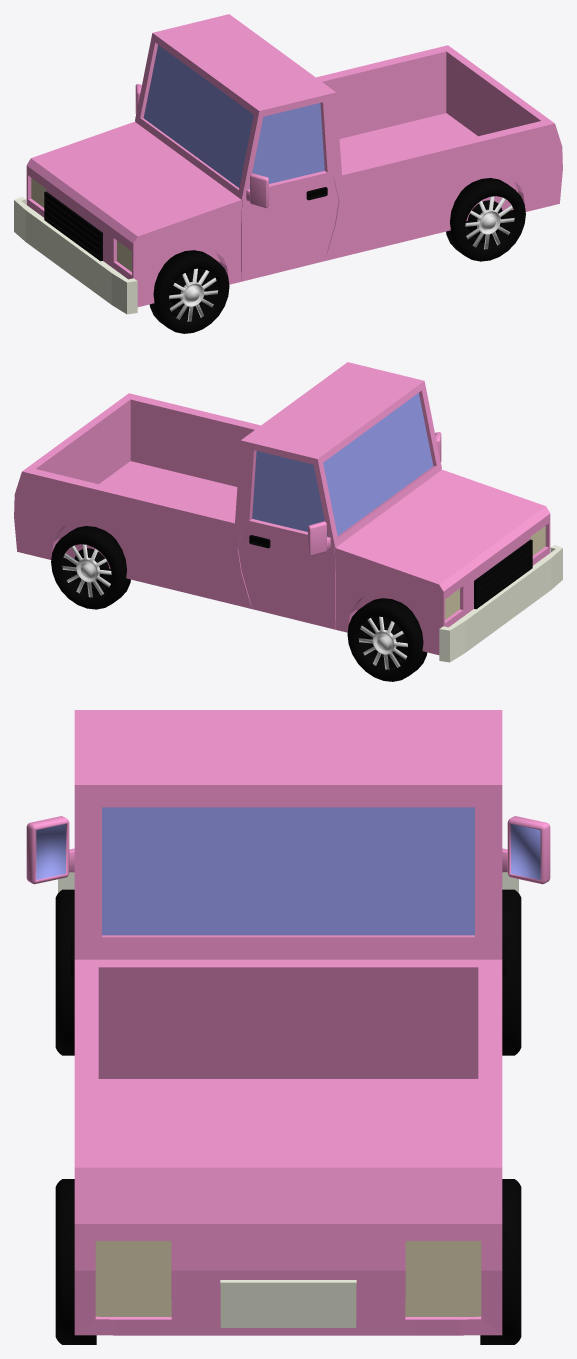
3 renders of one model, top to bottom at view 1: azimuth 30°, elevation 25°; view 2: azimuth 150°, elevation 25°; view 3: azimuth 270°, elevation 25°, orthographic. The views are drawn at different scales.
Parts seen in each view (by area): view 1: Vert.005; view 2: Vert.005; view 3: Vert.005.
Part boxes in pixels (x1,y1,x2,y2): Vert.005: (14,14,562,333); Vert.005: (14,362,562,681); Vert.005: (26,710,550,1344).
Bounding box in the file's own units: 552 × 241 × 283.
